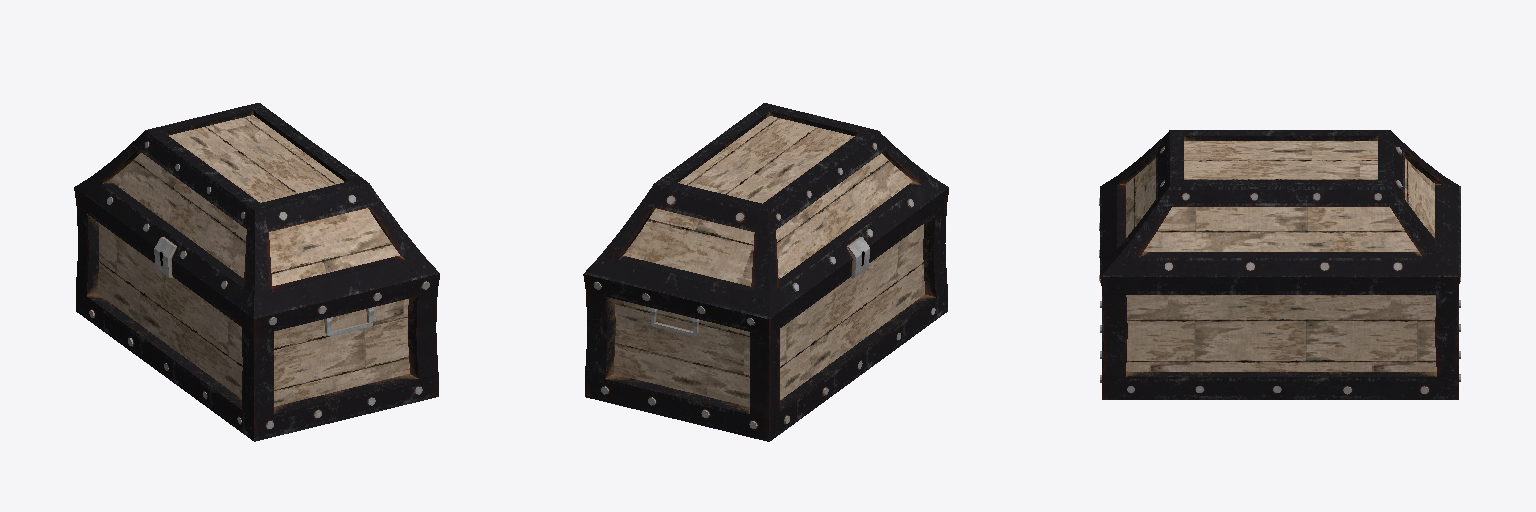
3 renders of one model, left to right at view 1: azimuth 30°, elevation 25°; view 2: azimuth 150°, elevation 25°; view 3: azimuth 270°, elevation 25°, orthographic.
Visible parts, largest first — view 1: Telo_Cube; view 2: Telo_Cube; view 3: Telo_Cube.
Boxes of the visible parts, <box> form: Telo_Cube: <box>74,103,439,441</box>; Telo_Cube: <box>583,103,948,441</box>; Telo_Cube: <box>1099,130,1460,399</box>.
Size of the model in its own units: 45.39 by 44.98 by 74.96.
1 materials, 1 textured.